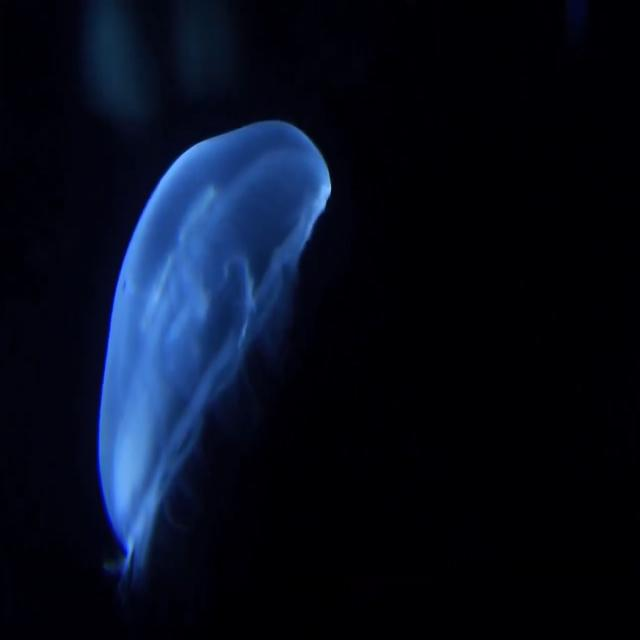Moon-jellyfish: (96, 119, 346, 639)
